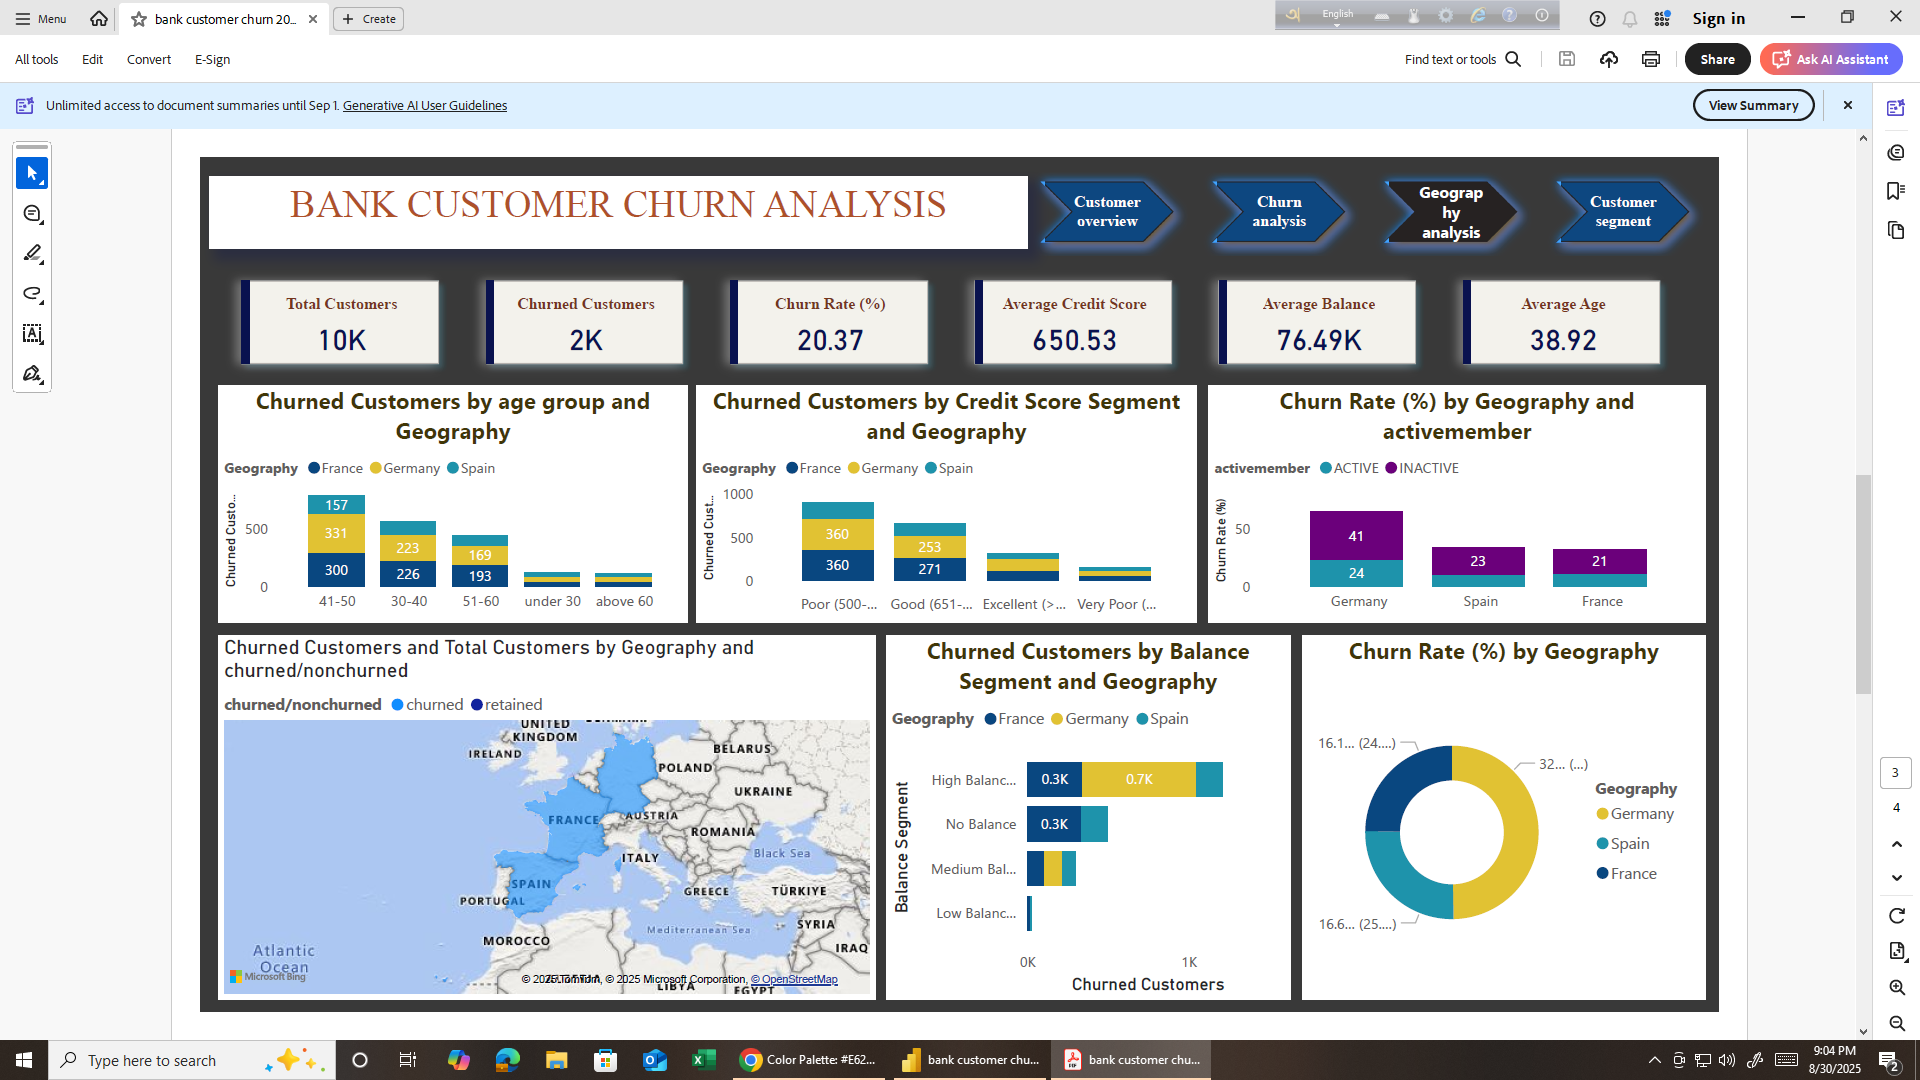

The page's visual inventory and layout, read from the dashboard file:
{"tool":"powerbi","page":{"name":"Geography analysis","canvas":[1280,720],"ordinal":2},"visuals":[{"type":"pageNavigator","box":[697.4,8.8,571.9,73.9],"z":0},{"type":"textbox","box":[7.8,15.6,689.6,61.3],"z":1000},{"type":"filledMap","fields":{"Category":["Bank_Churn.Geography"],"Series":["Bank_Churn.churned/nonchurned"]},"box":[14.6,402.7,554.4,307.4],"z":2000},{"type":"donutChart","fields":{"Category":["Bank_Churn.Geography"],"Y":["measure.Churn Rate (%)"]},"box":[928.9,402.7,340.4,307.4],"z":3000},{"type":"columnChart","fields":{"Y":["measure.Churned Customers"],"Series":["Bank_Churn.Geography"],"Category":["Bank_Churn.Credit Score Segment"]},"box":[418.2,191.6,422.1,200.4],"z":4000},{"type":"barChart","fields":{"Category":["Bank_Churn.Balance Segment"],"Y":["measure.Churned Customers"],"Series":["Bank_Churn.Geography"]},"box":[577.8,402.7,341.4,307.4],"z":5000},{"type":"columnChart","fields":{"Y":["measure.Churned Customers"],"Series":["Bank_Churn.Geography"],"Category":["Bank_Churn.age group"]},"box":[14.6,191.6,396.8,200.4],"z":6000},{"type":"columnChart","fields":{"Category":["Bank_Churn.Geography"],"Y":["measure.Churn Rate (%)"],"Series":["Bank_Churn.activemember"]},"box":[850.1,191.6,419.2,200.4],"z":7000},{"type":"cardVisual","fields":{"Data":["measure.Total Customers","measure.Churned Customers","measure.Churn Rate (%)","measure.Average Credit Score","measure.Average Balance","measure.Average Age"]},"box":[13.6,82.7,1242.1,111.9],"z":8000}]}

Visuals, with their boxes on the page's 1280x720 design canvas (x1, y1, x2, y2). These are canvas units, not pixel positions in the 1920x1080 screenshot, which may show the page scaled, cropped or inside an application window:
pageNavigator: rect(697, 9, 1269, 83)
textbox: rect(8, 16, 697, 77)
filledMap - Bank_Churn.Geography x Bank_Churn.churned/nonchurned: rect(15, 403, 569, 710)
donutChart - Bank_Churn.Geography x measure.Churn Rate (%): rect(929, 403, 1269, 710)
columnChart - measure.Churned Customers x Bank_Churn.Geography: rect(418, 192, 840, 392)
barChart - Bank_Churn.Balance Segment x measure.Churned Customers: rect(578, 403, 919, 710)
columnChart - measure.Churned Customers x Bank_Churn.Geography: rect(15, 192, 411, 392)
columnChart - Bank_Churn.Geography x measure.Churn Rate (%): rect(850, 192, 1269, 392)
cardVisual - measure.Total Customers x measure.Churned Customers: rect(14, 83, 1256, 195)
